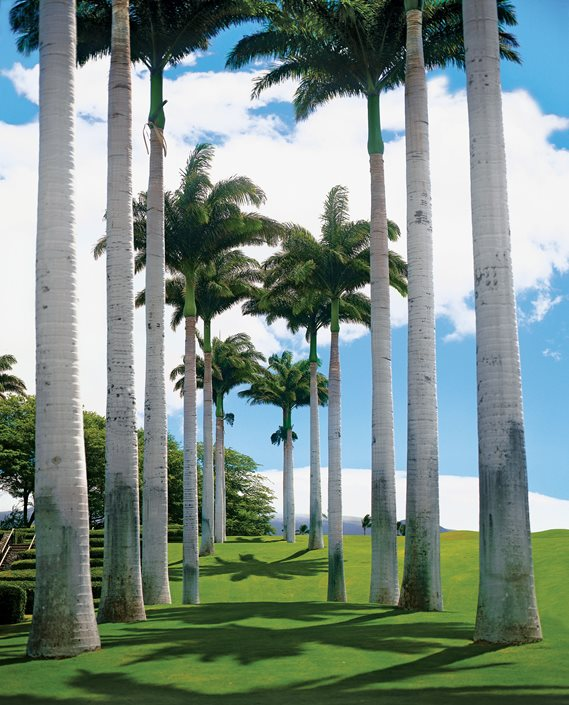grass: (324, 610, 564, 694), (2, 615, 210, 694), (219, 538, 317, 697)
tree: (473, 365, 540, 645), (31, 431, 101, 660), (397, 392, 442, 617), (104, 404, 145, 625), (143, 390, 173, 610), (370, 410, 400, 615), (182, 459, 198, 606), (328, 460, 344, 604)
